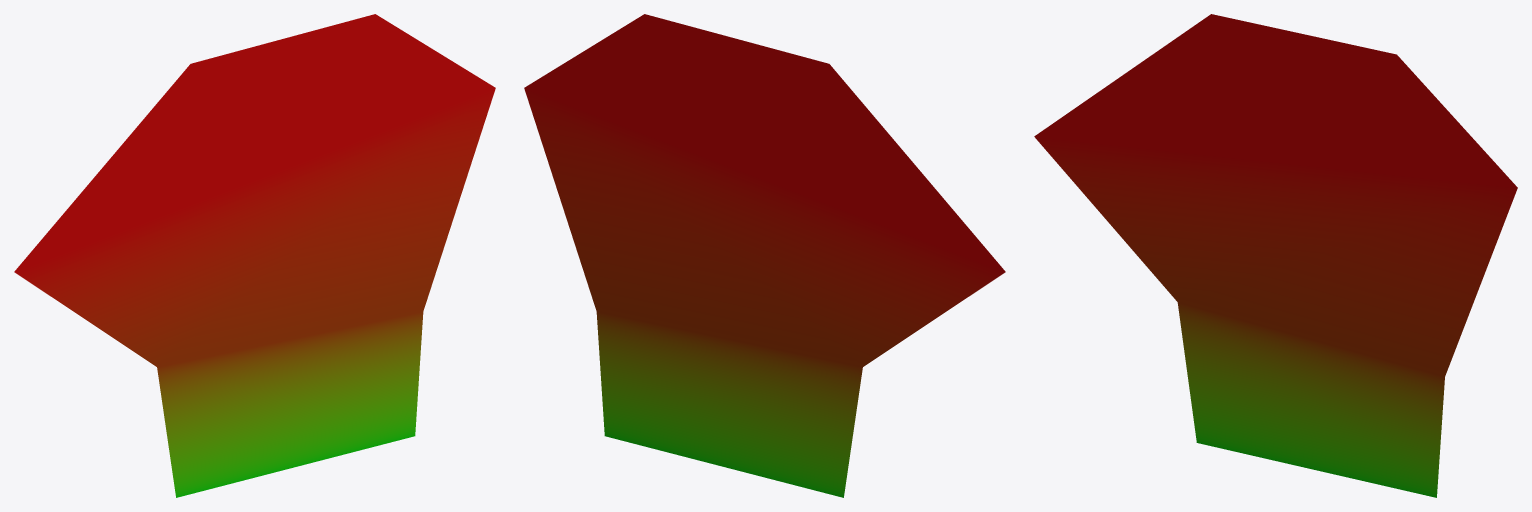
Rendered from Cotton Grass_LOD4_Var3_wlykecdia.fbx.
3 views of the same model, side by side, from view 1: azimuth 30°, elevation 25°; view 2: azimuth 150°, elevation 25°; view 3: azimuth 330°, elevation 25° (orthographic).
Visible parts, largest first — view 1: _buxm_Var3_LOD4; view 2: _buxm_Var3_LOD4; view 3: _buxm_Var3_LOD4.
Part boxes in pixels (x1,y1,x2,y2): _buxm_Var3_LOD4: (14, 14, 495, 497); _buxm_Var3_LOD4: (524, 14, 1005, 497); _buxm_Var3_LOD4: (1034, 14, 1517, 497).
Bounding box in the file's own units: 30.66 × 26.48 × 1.16e-06.
